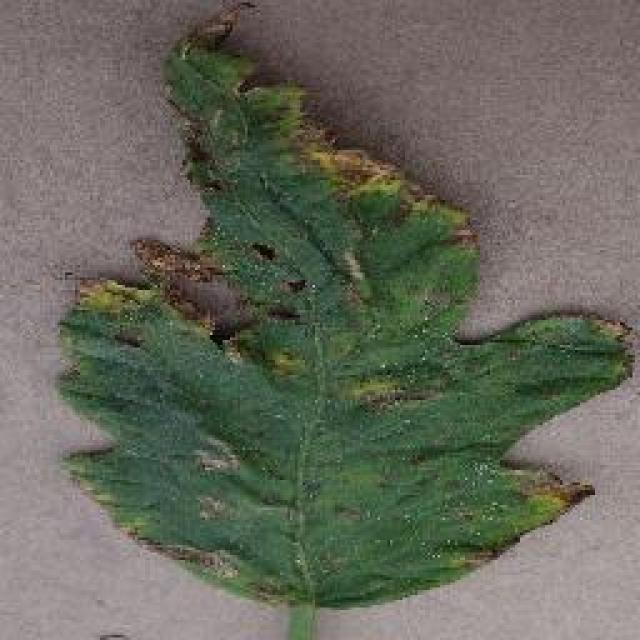bacterial spot: (56, 1, 634, 627)
